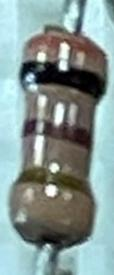Black: (22, 61, 108, 105)
Brown: (21, 119, 94, 152)
Red: (21, 32, 108, 65)
Side-Gold: (11, 167, 96, 203)
